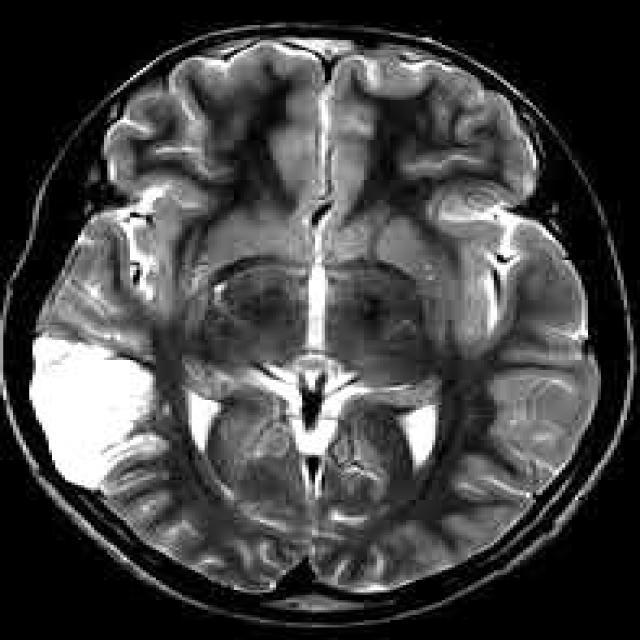brain tumor: (29, 338, 149, 490)
